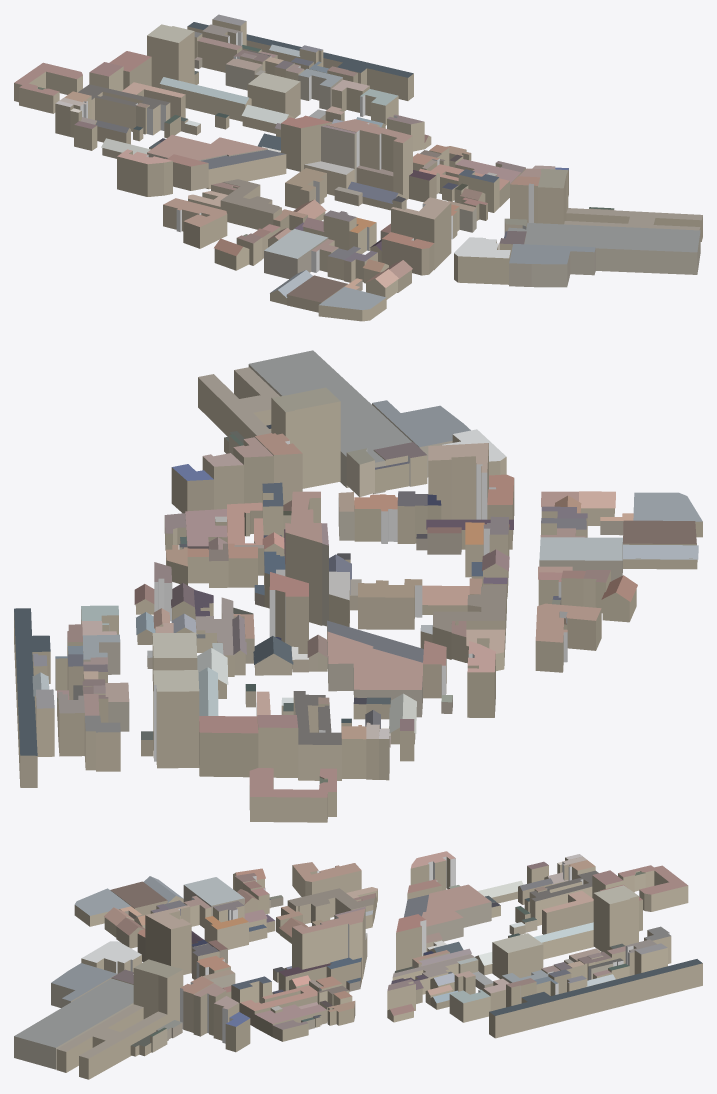
The picture shows the model from 3 angles, top to bottom: view 1: azimuth 30°, elevation 25°; view 2: azimuth 150°, elevation 25°; view 3: azimuth 270°, elevation 25°; orthographic projection. The views are drawn at different scales.
Visible parts, largest first — view 1: tuile; view 2: tuile; view 3: tuile.
Part boxes in pixels (x1=…): tuile: x1=14, y1=14, x2=702, y2=321; tuile: x1=14, y1=350, x2=702, y2=822; tuile: x1=14, y1=851, x2=702, y2=1079.
Bounding box in the file's own units: 191 × 29.81 × 293.
